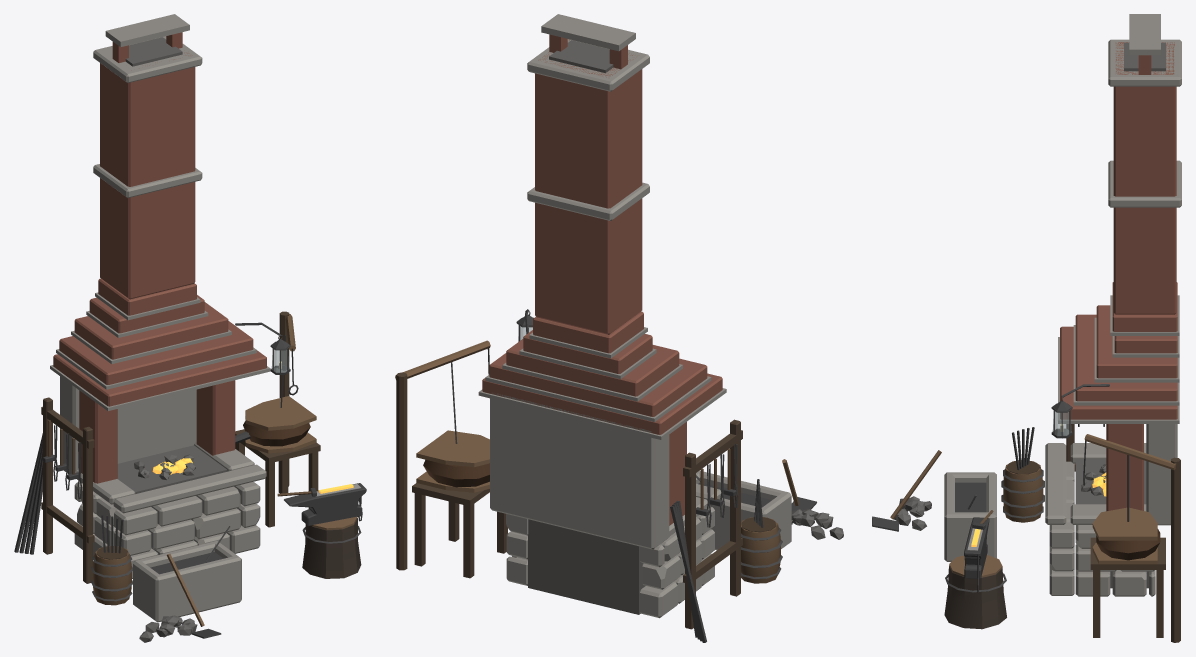
The model's file is station_forge.glb.
3 views of the same model, side by side, from view 1: azimuth 30°, elevation 25°; view 2: azimuth 150°, elevation 25°; view 3: azimuth 270°, elevation 25° (orthographic). The views are drawn at different scales.
Parts seen in each view (by area): view 1: station_forge; view 2: station_forge; view 3: station_forge.
Part boxes in pixels (x1,y1,x2,y2): station_forge: (14, 14, 366, 642); station_forge: (395, 14, 843, 642); station_forge: (872, 14, 1181, 642).
Size of what is drawn, in the model's own units: 3.2 by 5.6 by 2.95.
